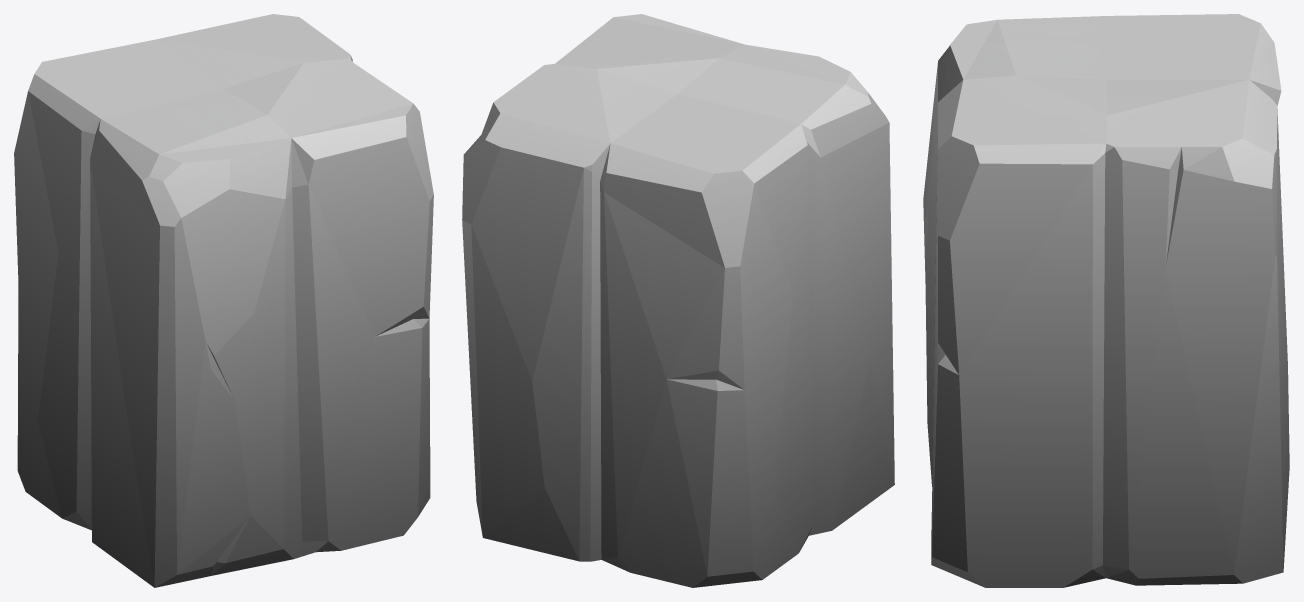
The model's file is RockBlock3.fbx.
The picture shows the model from 3 angles, left to right: view 1: azimuth 30°, elevation 25°; view 2: azimuth 150°, elevation 25°; view 3: azimuth 270°, elevation 25°; orthographic projection. The views are drawn at different scales.
Parts seen in each view (by area): view 1: RockBlock3; view 2: RockBlock3; view 3: RockBlock3.
Boxes of the visible parts, box(x1,y1,x2,y2) form: RockBlock3: box(14, 14, 433, 587); RockBlock3: box(462, 14, 894, 587); RockBlock3: box(923, 14, 1289, 587).
Size of the model in its own units: 0.8927 by 1.24 by 0.9368.
